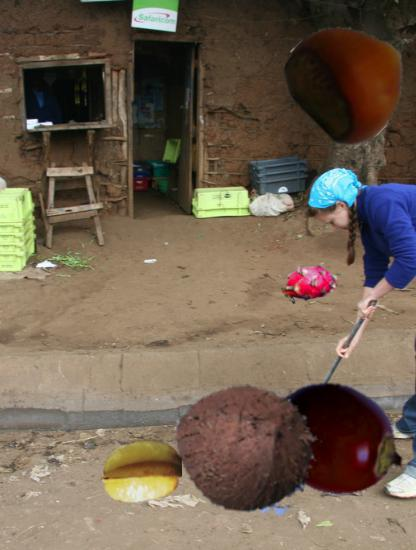Carambula: (99, 430, 182, 513)
Cocos: (173, 374, 322, 523)
Nut: (288, 18, 410, 140)
Pitahaya: (281, 254, 336, 309)
Tamarillo: (268, 371, 405, 508)
